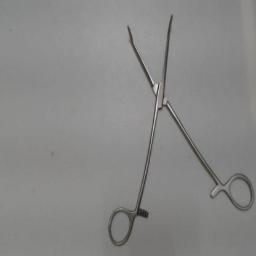Lahey Forceps: (104, 9, 254, 249)
